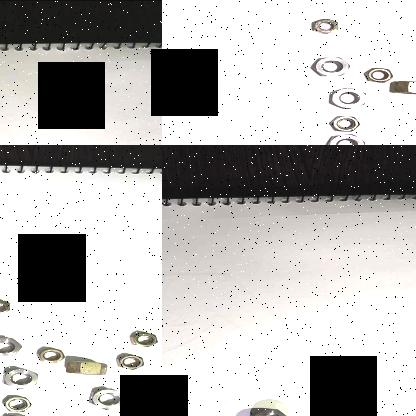NUTS: (86, 381, 130, 410), (309, 53, 357, 77), (324, 86, 370, 110), (61, 358, 112, 378), (0, 365, 42, 389), (127, 326, 161, 348), (307, 15, 343, 35), (0, 333, 27, 359), (0, 394, 35, 414), (328, 112, 362, 132), (31, 344, 65, 364), (115, 352, 148, 372), (363, 65, 395, 85), (322, 132, 370, 145), (386, 78, 416, 96), (328, 404, 371, 416), (248, 405, 292, 416), (0, 295, 15, 315)
